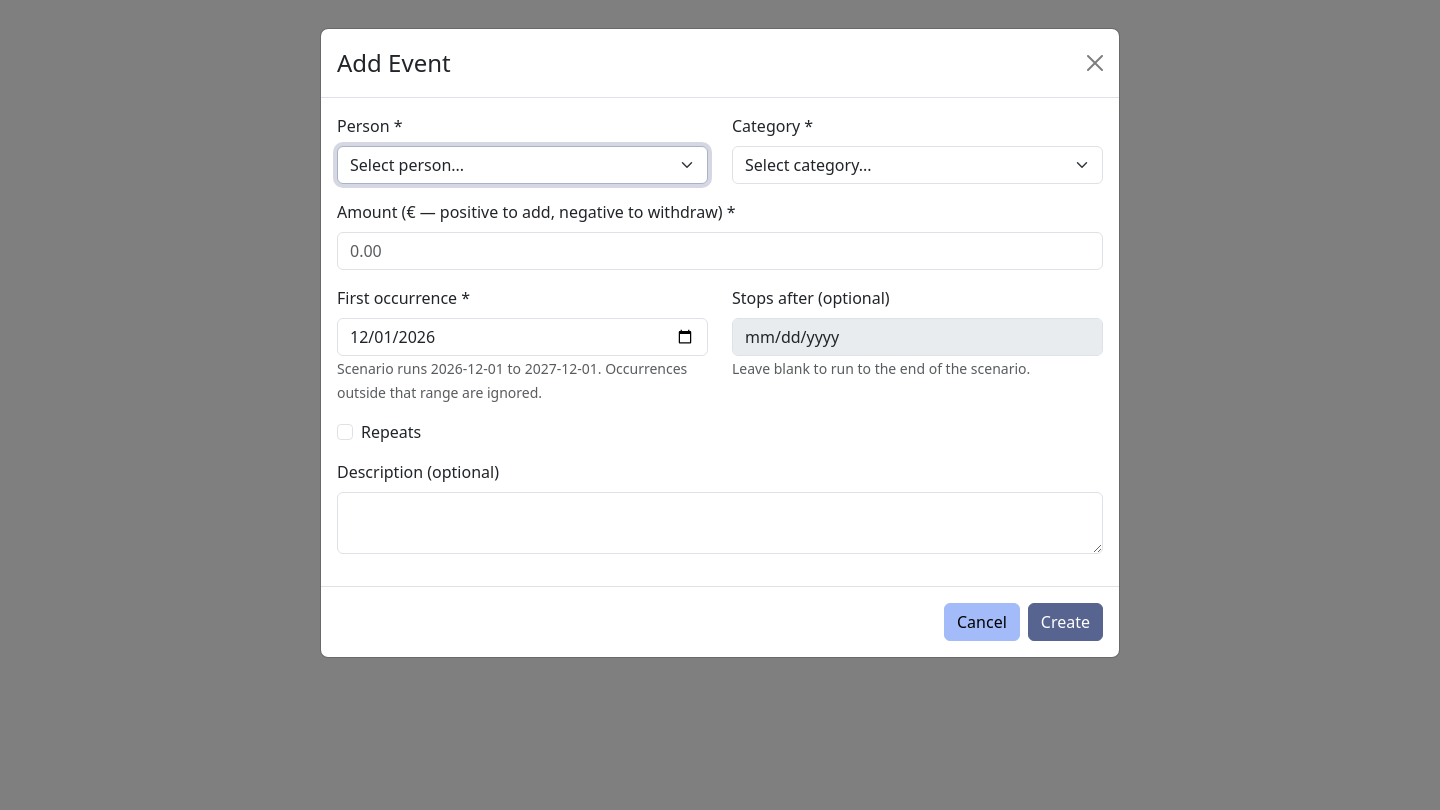
validation › rejects a zero amount
Select "Jess" in the dropdown labelled "Person *" at (522, 165), box x1=337 y1=146 x2=708 y2=184
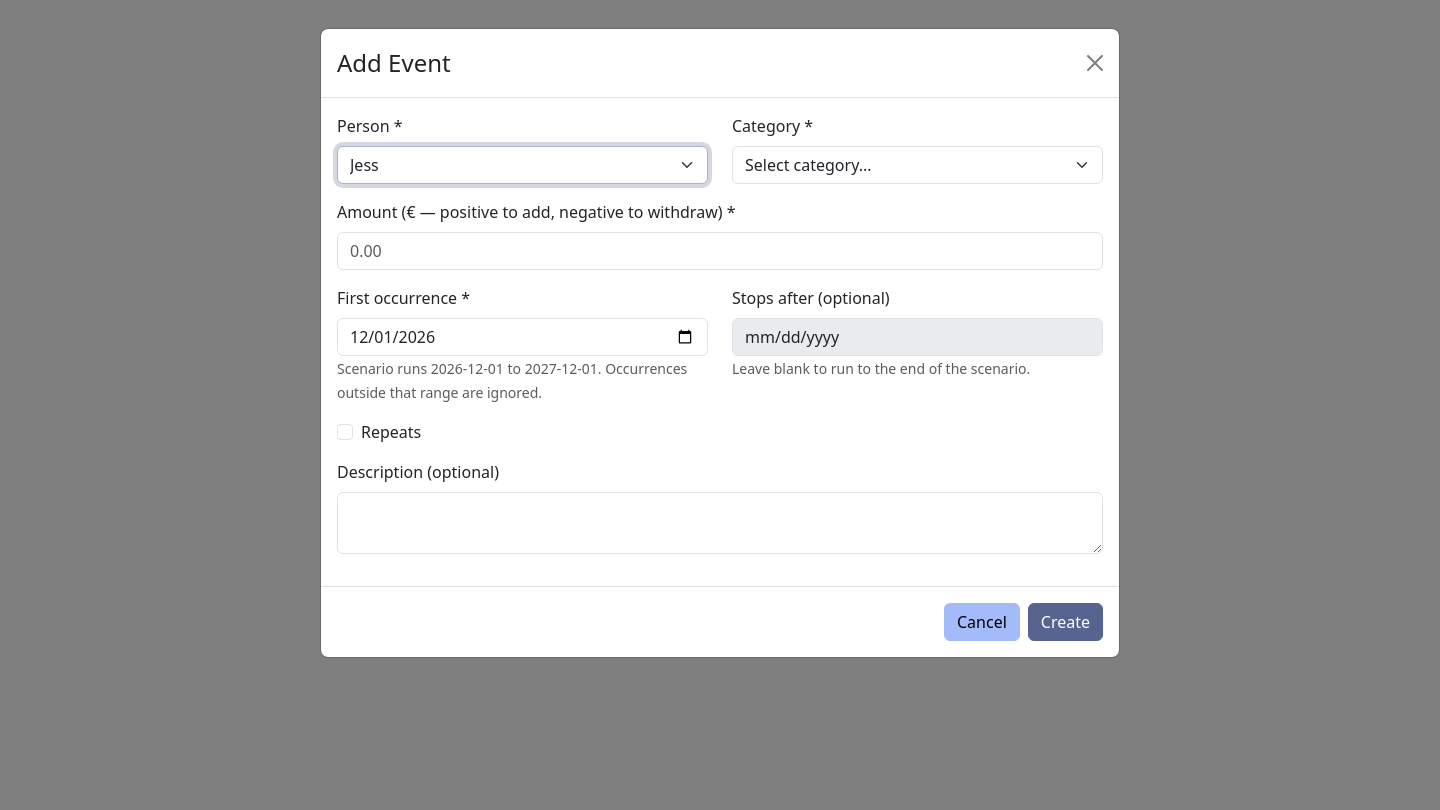
Select "Cushion" in the dropdown labelled "Category *" at (918, 165), box x1=732 y1=146 x2=1103 y2=184
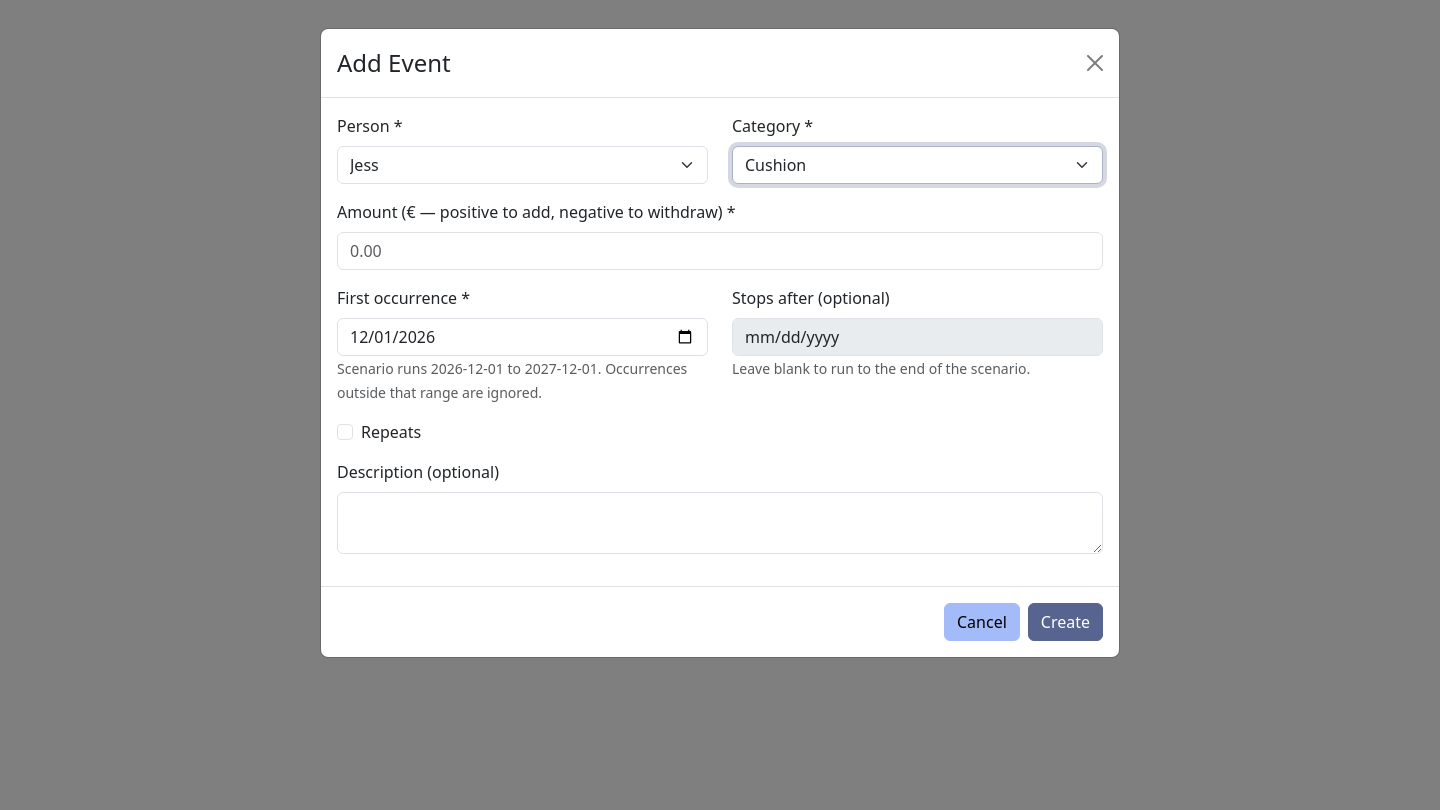
Type "0" into the number field labelled "Amount (€ — positive to add, negative to withdraw) *" at (720, 251), box x1=337 y1=232 x2=1103 y2=270
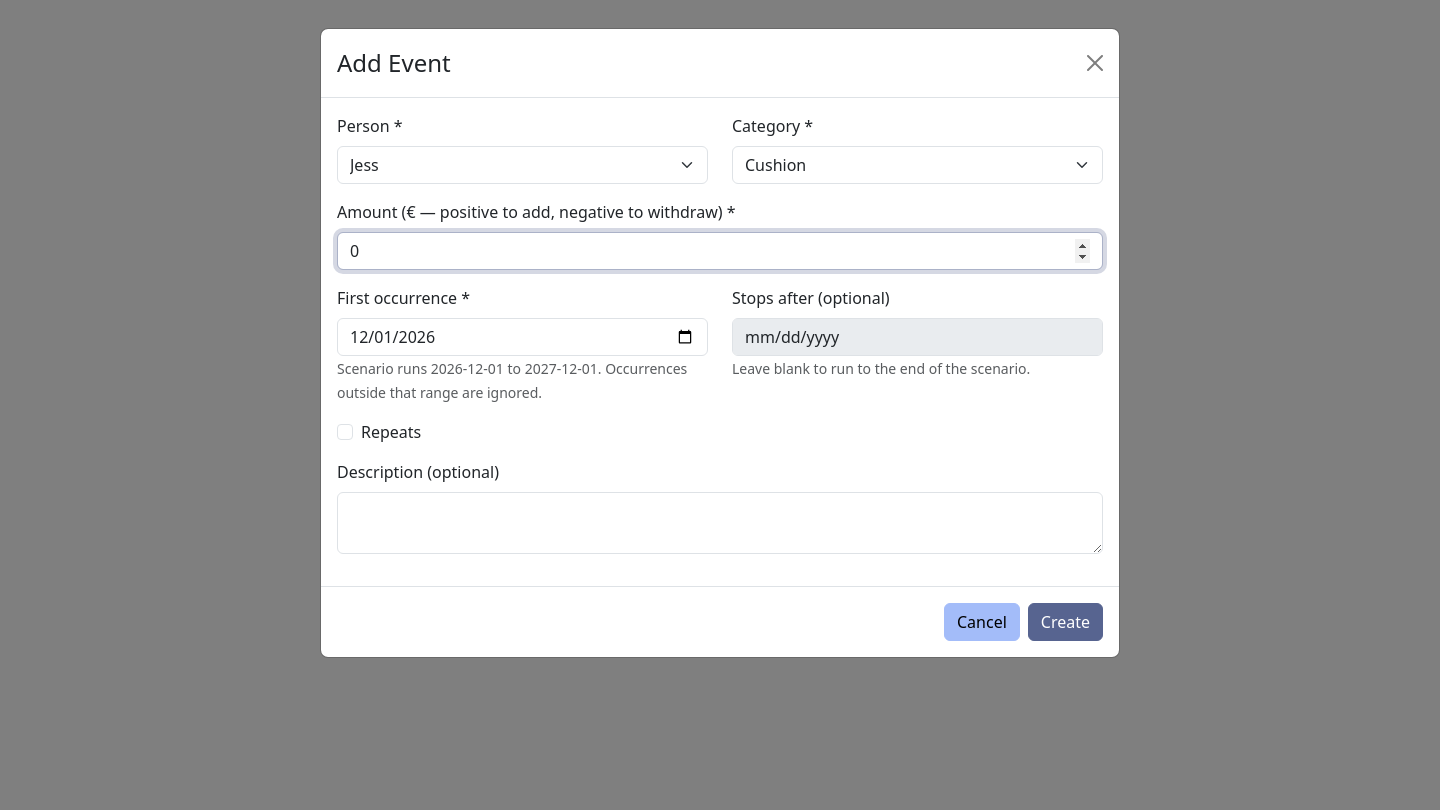
Click the button "Create" at (1065, 622), box x1=1028 y1=603 x2=1103 y2=641
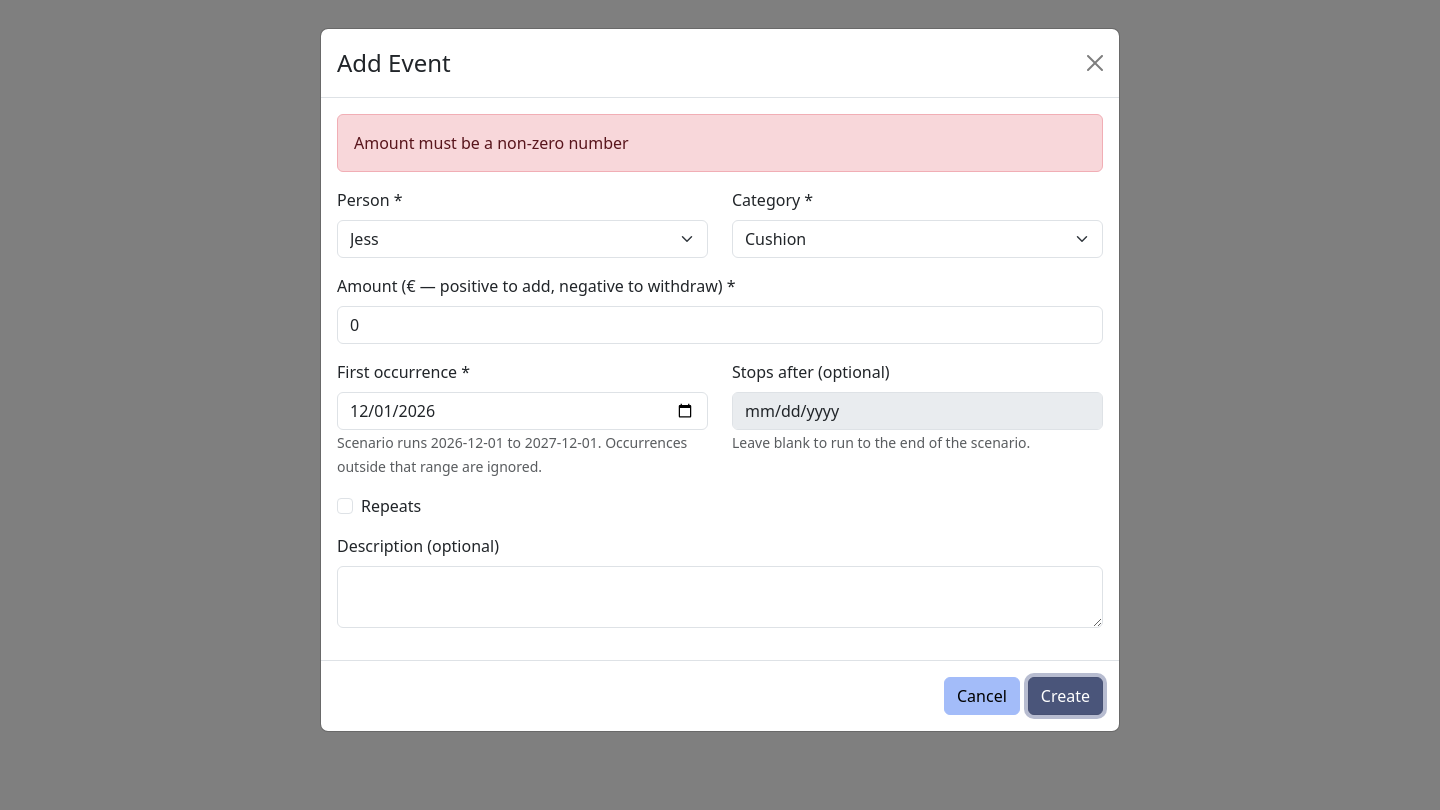
Expected: the text "Amount must be a non-zero number" is shown, x1=337 y1=114 x2=1103 y2=172
